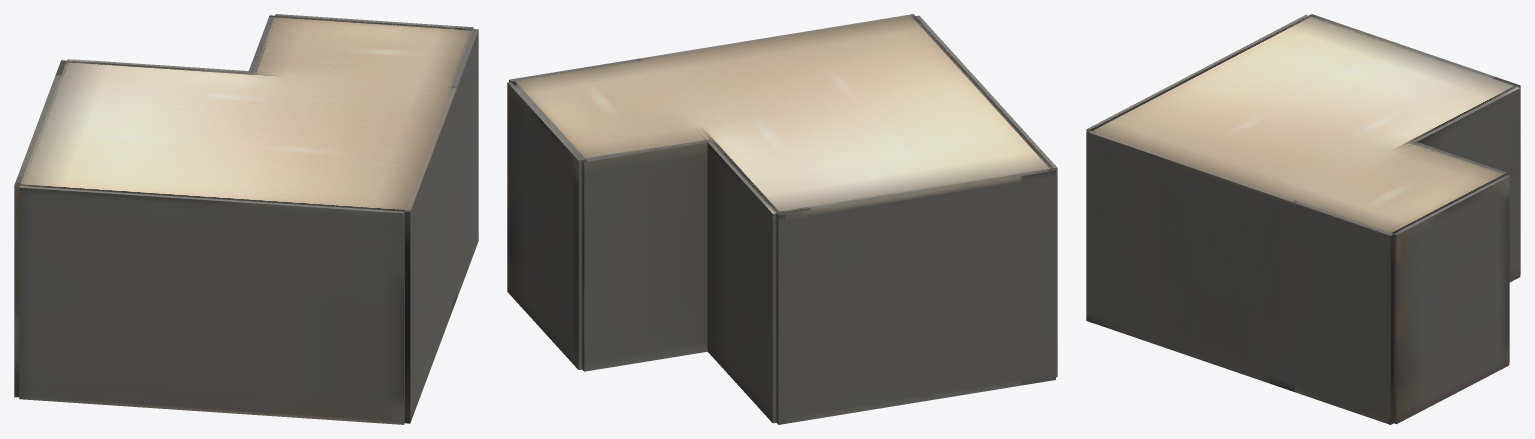
The model's file is hotel_horneado.glb.
3 renders of one model, left to right at view 1: azimuth 30°, elevation 25°; view 2: azimuth 150°, elevation 25°; view 3: azimuth 270°, elevation 25°, orthographic. The views are drawn at different scales.
Parts seen in each view (by area): view 1: superficies; view 2: superficies; view 3: superficies.
Boxes of the visible parts, <box> form: superficies: <box>14,14,478,424</box>; superficies: <box>507,14,1057,424</box>; superficies: <box>1086,14,1520,424</box>.
Bounding box in the file's own units: 7.29 × 2.9 × 6.03.
Materials: 10 (7 with a texture image).
